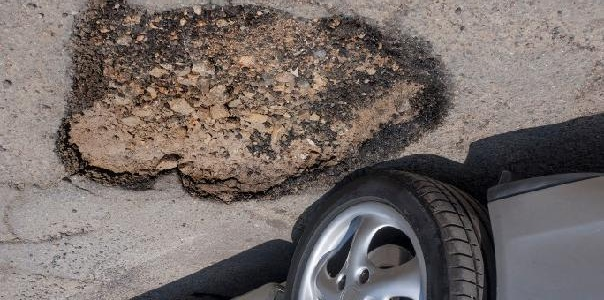pothole: (51, 1, 452, 206)
